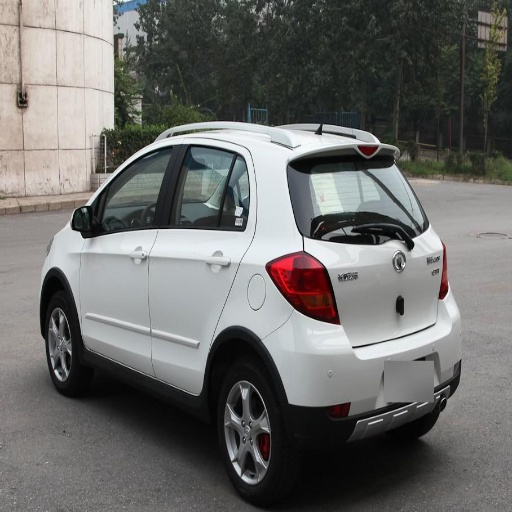back_bumper: (260, 308, 462, 447)
back_glass: (290, 151, 427, 243)
back_left_door: (149, 139, 252, 393)
tailgate: (308, 231, 438, 345)
